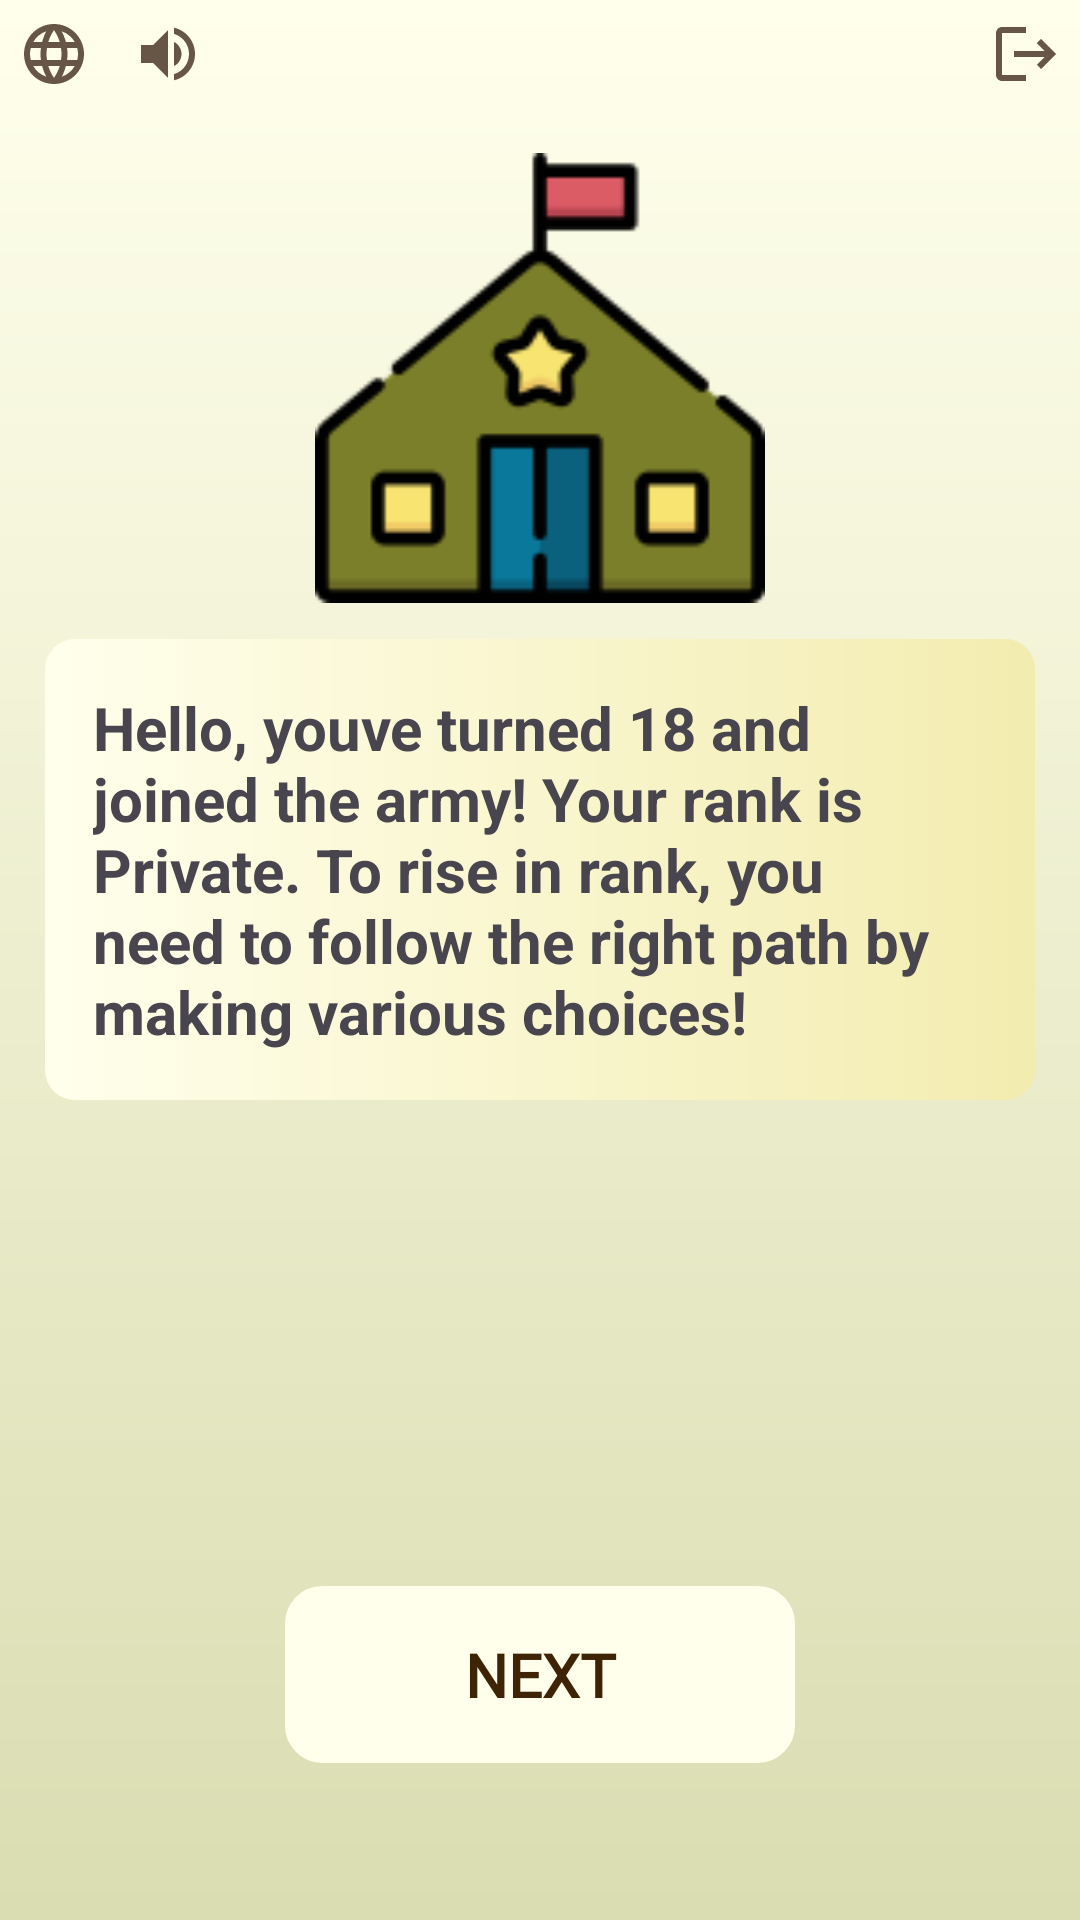

Point at icon controls on the screen. Image size 1080 × 1920, points as point (x, y).
language: point (54, 54)
volume up: point (168, 54)
